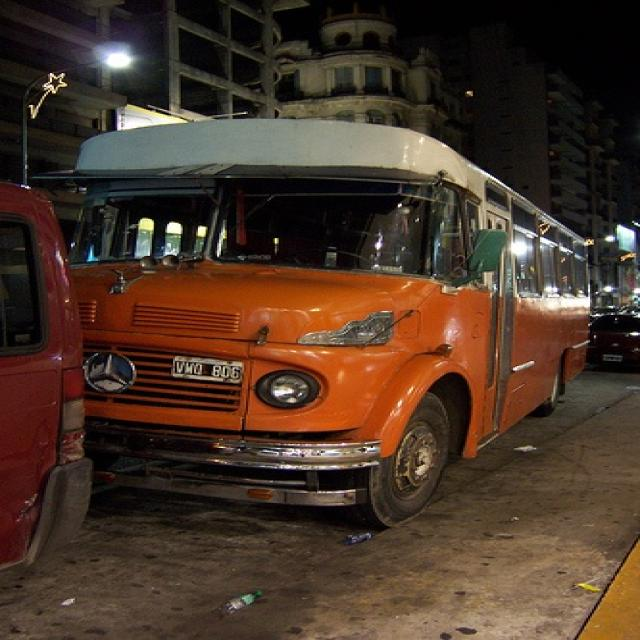bus: (47, 114, 597, 536)
car: (1, 181, 95, 595)
